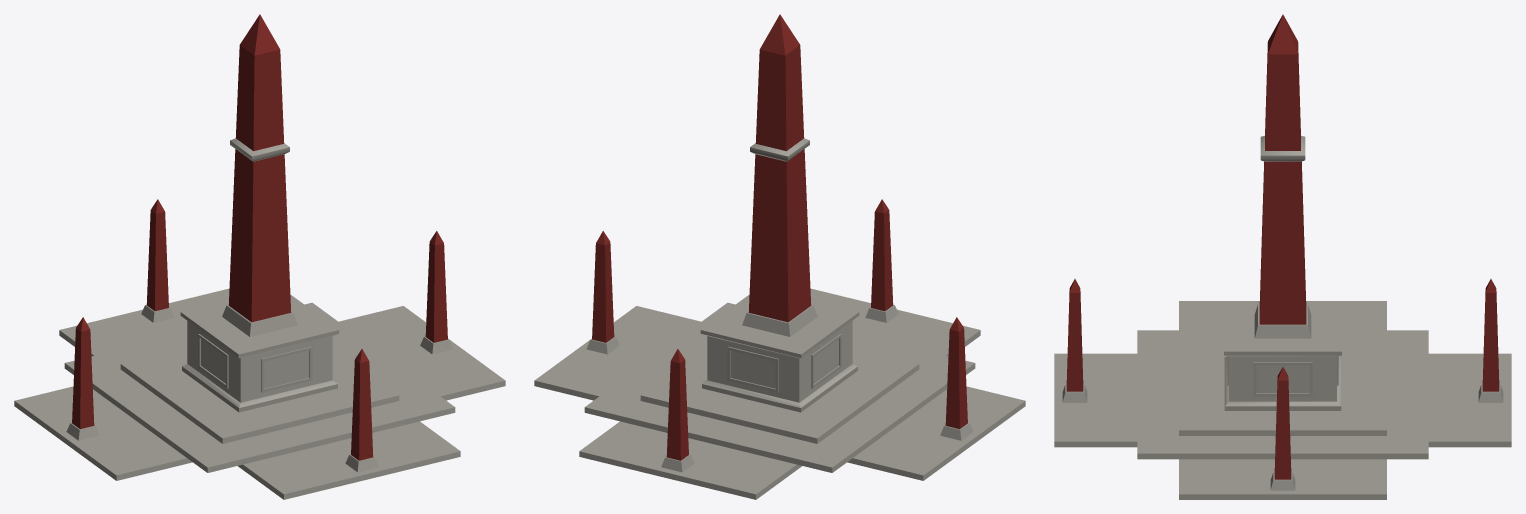
File: Monument9.fbx
3 views of the same model, side by side, from view 1: azimuth 30°, elevation 25°; view 2: azimuth 150°, elevation 25°; view 3: azimuth 270°, elevation 25° (orthographic).
Parts seen in each view (by area): view 1: Monument9; view 2: Monument9; view 3: Monument9.
Part boxes in pixels (left/top/right/bottom): Monument9: left=14, top=14, right=505, bottom=499; Monument9: left=534, top=14, right=1025, bottom=499; Monument9: left=1054, top=14, right=1511, bottom=499.
Size of the model in its own units: 11 by 10.33 by 11.
